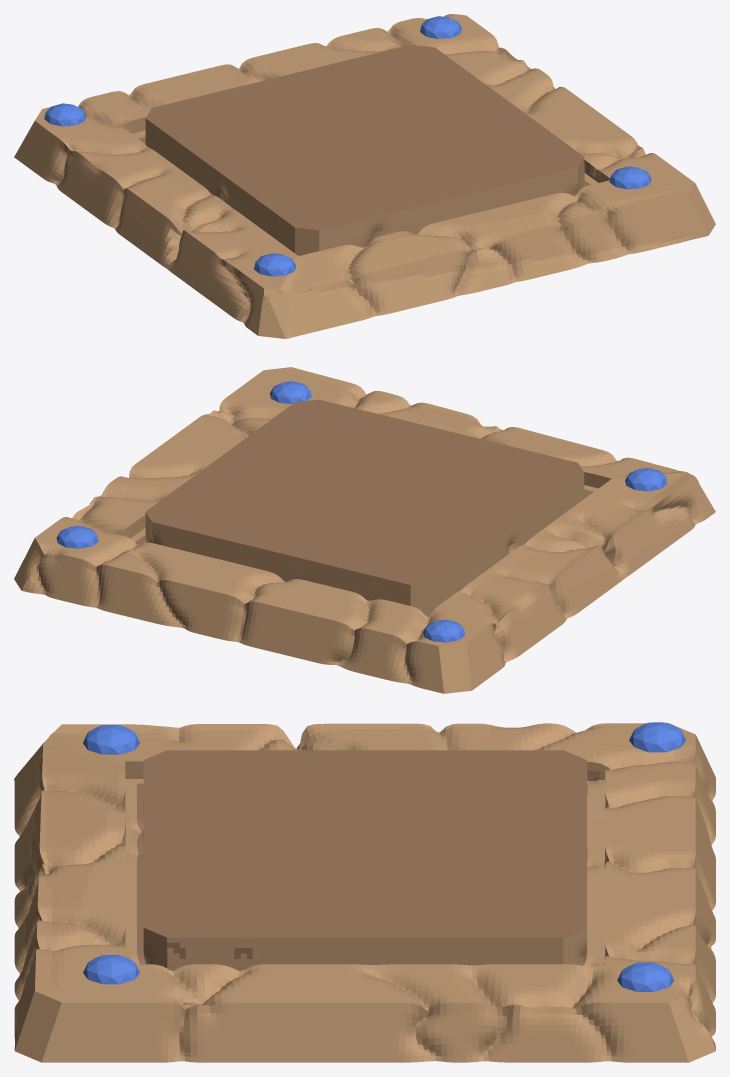
Rendered from pressure plate2024-25.fbx.
3 views of the same model, one above another, from view 1: azimuth 30°, elevation 25°; view 2: azimuth 150°, elevation 25°; view 3: azimuth 270°, elevation 25° (orthographic). The views are drawn at different scales.
Parts seen in each view (by area): view 1: Cube, Icosphere.001, Icosphere, Icosphere.002, Icosphere.003; view 2: Cube, Icosphere.001, Icosphere.003, Icosphere.002, Icosphere; view 3: Cube, Icosphere.002, Icosphere.001, Icosphere.003, Icosphere.
Part boxes in pixels (x1=…): Cube: x1=14, y1=14, x2=715, y2=338; Icosphere.001: x1=254, y1=253, x2=295, y2=276; Icosphere: x1=609, y1=166, x2=651, y2=189; Icosphere.002: x1=44, y1=103, x2=86, y2=126; Icosphere.003: x1=420, y1=16, x2=461, y2=38; Cube: x1=14, y1=367, x2=715, y2=693; Icosphere.001: x1=625, y1=468, x2=667, y2=491; Icosphere.003: x1=56, y1=525, x2=98, y2=548; Icosphere.002: x1=423, y1=619, x2=465, y2=642; Icosphere: x1=270, y1=381, x2=311, y2=403; Cube: x1=14, y1=723, x2=715, y2=1062; Icosphere.002: x1=629, y1=722, x2=685, y2=752; Icosphere.001: x1=83, y1=725, x2=139, y2=754; Icosphere.003: x1=617, y1=962, x2=674, y2=991; Icosphere: x1=83, y1=955, x2=139, y2=984.
Size of the model in its own units: 212 by 24.31 by 212.
